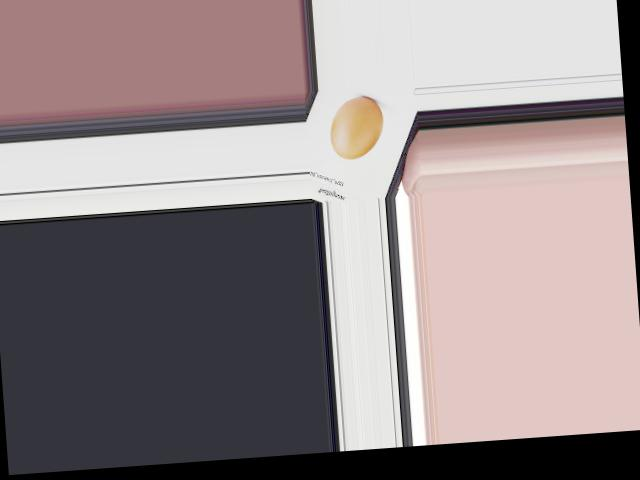egg: (328, 95, 386, 160)
